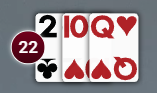10: (60, 11, 91, 42)
2: (34, 12, 61, 41)
q: (87, 10, 120, 44)
